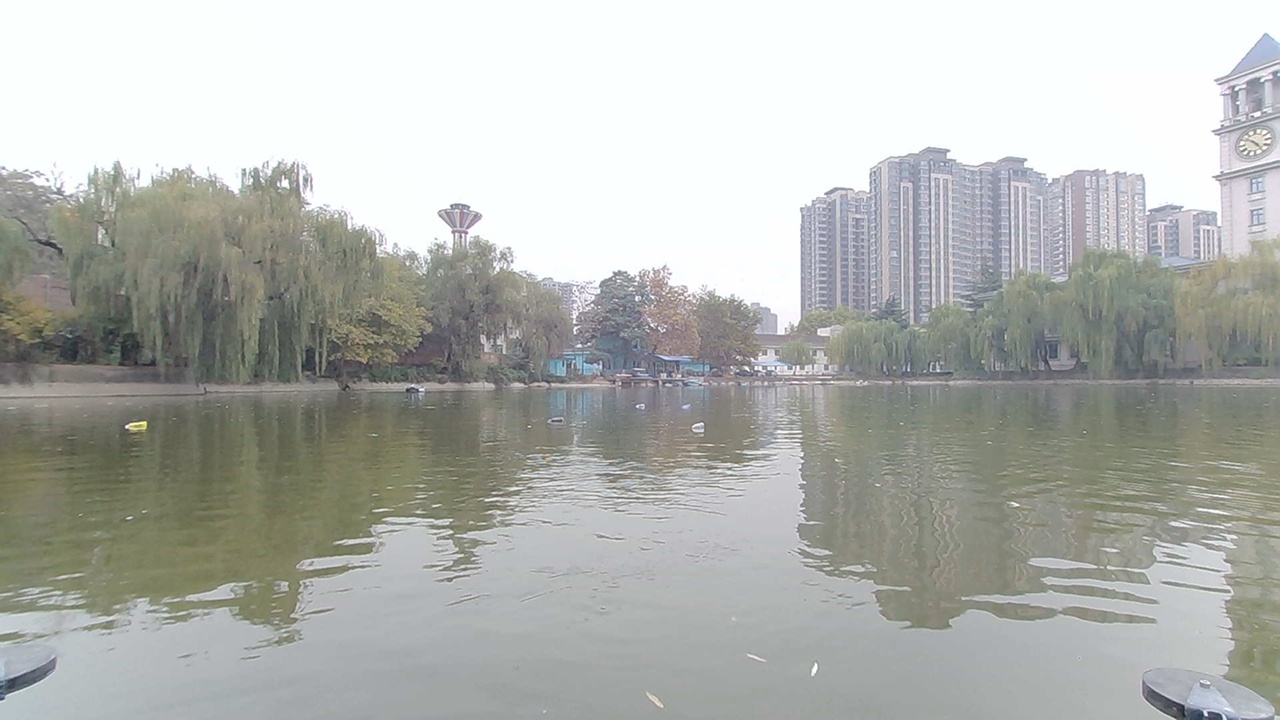bottle: (118, 415, 160, 439), (546, 406, 576, 428), (681, 412, 711, 433), (677, 389, 710, 406), (632, 395, 654, 414)
